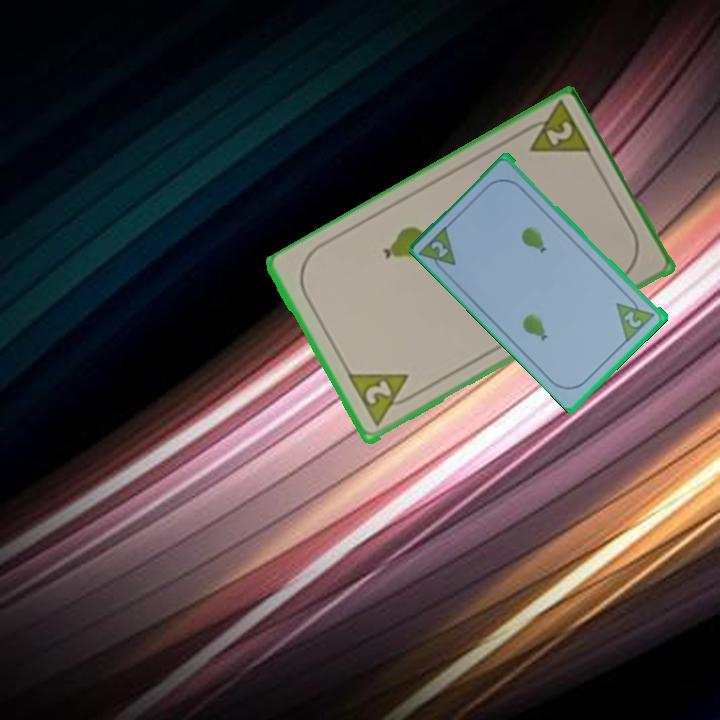2p: (514, 99, 595, 159), (344, 370, 421, 431), (621, 307, 645, 331), (428, 237, 451, 261)
